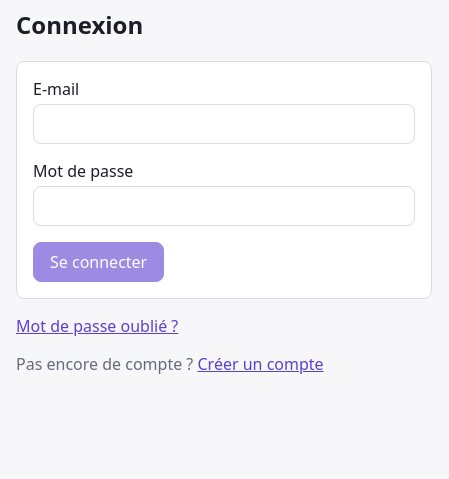
Test case: LoginPage (#19 : double authentification) › un code de secours part dans son propre champ ; un refus dit « Code incorrect »
Type "moi@test.local" into the field with id "login-email".
click(224, 124); type("moi@test.local")  # box [33,104,415,144]
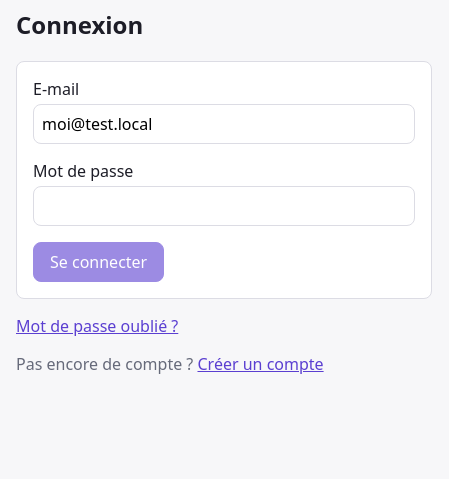
Type "Mot-de-passe1!" into the password field with id "login-password".
click(224, 206); type("Mot-de-passe1!")  # box [33,186,415,226]
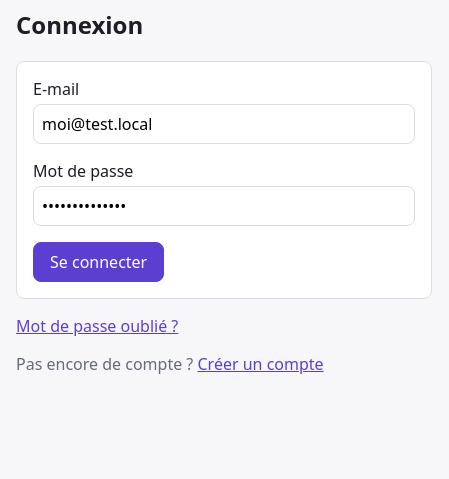
Submit the form, box [16,61,432,299]
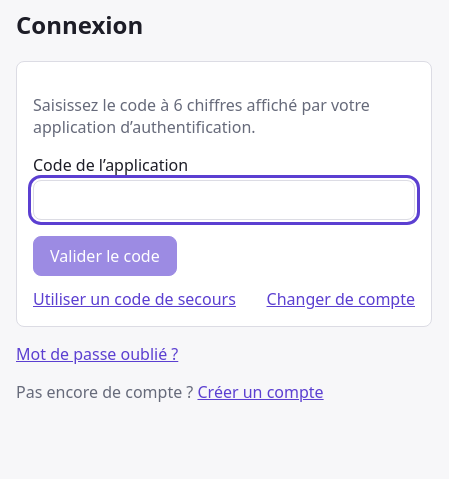
Click the button "Utiliser un code de secours".
click(134, 299)  # box [33,288,236,310]
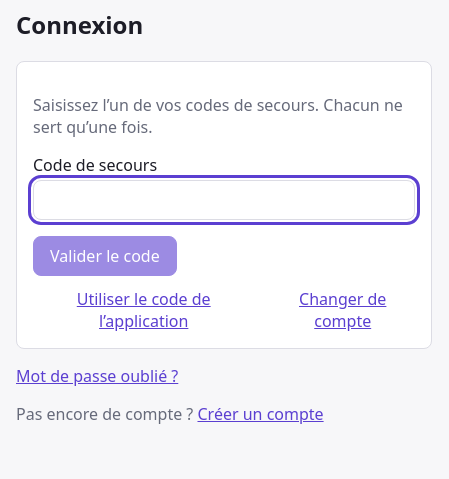
Type "aaaa1-bbbb1" into the field with id "login-code".
click(224, 200); type("aaaa1-bbbb1")  # box [33,180,415,220]
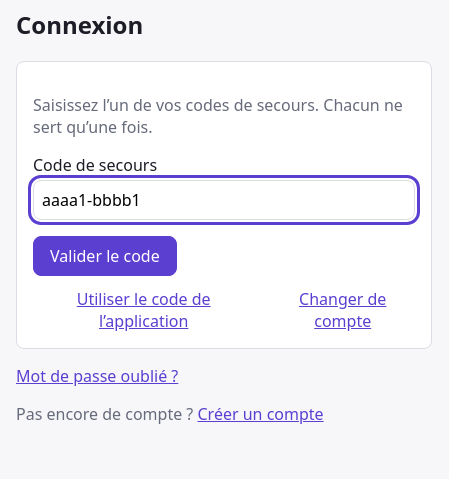
Submit the form, box [16,61,432,349]
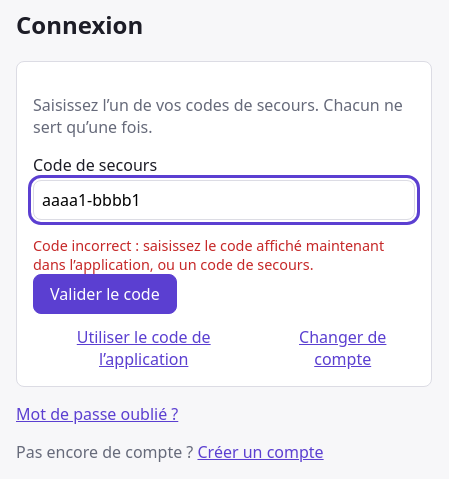
Expected: the message shows "Code incorrect", [33,236,384,274]
